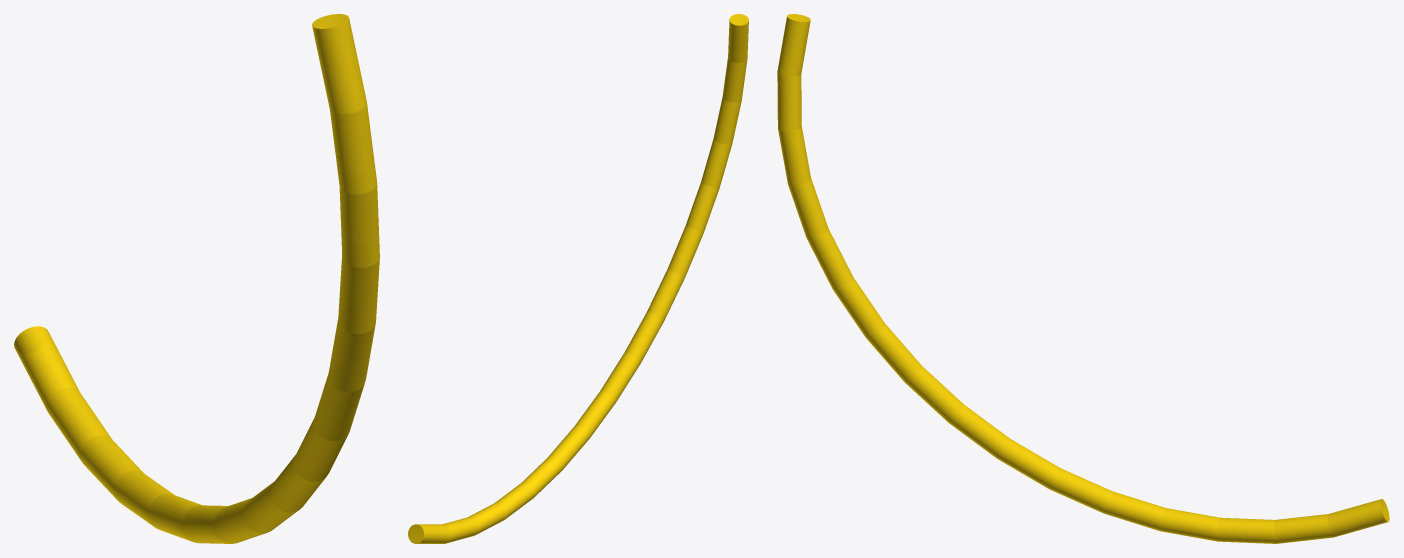
File: Event_421278790_track_33.fbx
3 renders of one model, left to right at view 1: azimuth 30°, elevation 25°; view 2: azimuth 150°, elevation 25°; view 3: azimuth 270°, elevation 25°, orthographic. The views are drawn at different scales.
Visible parts, largest first — view 1: Model; view 2: Model; view 3: Model.
Part boxes in pixels (<box>): Model: <box>14,14,379,543</box>; Model: <box>408,14,748,543</box>; Model: <box>777,14,1389,543</box>.
Size of the model in its own units: 0.2383 by 0.8873 by 1.02.
